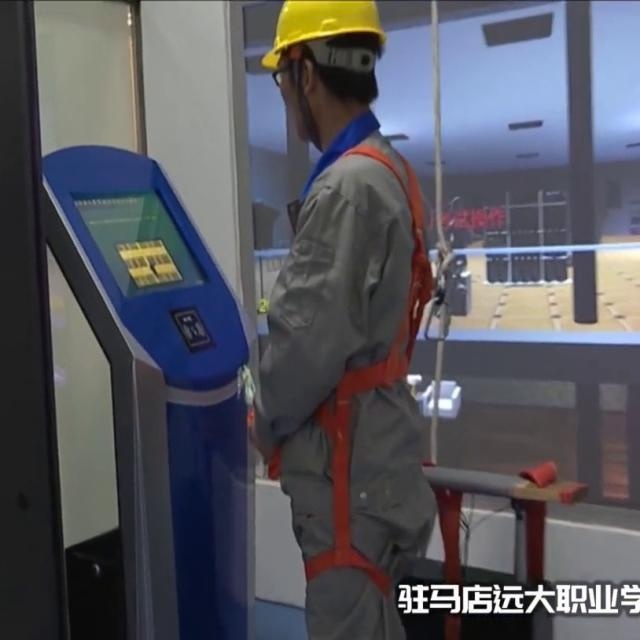Arnes_seguridad: (268, 132, 447, 512)
